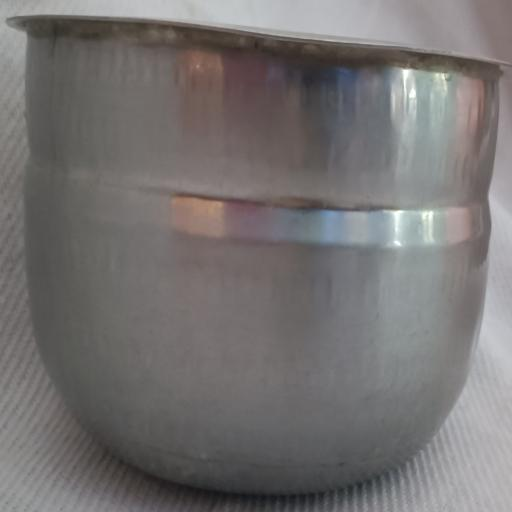vessel: (8, 16, 504, 494)
